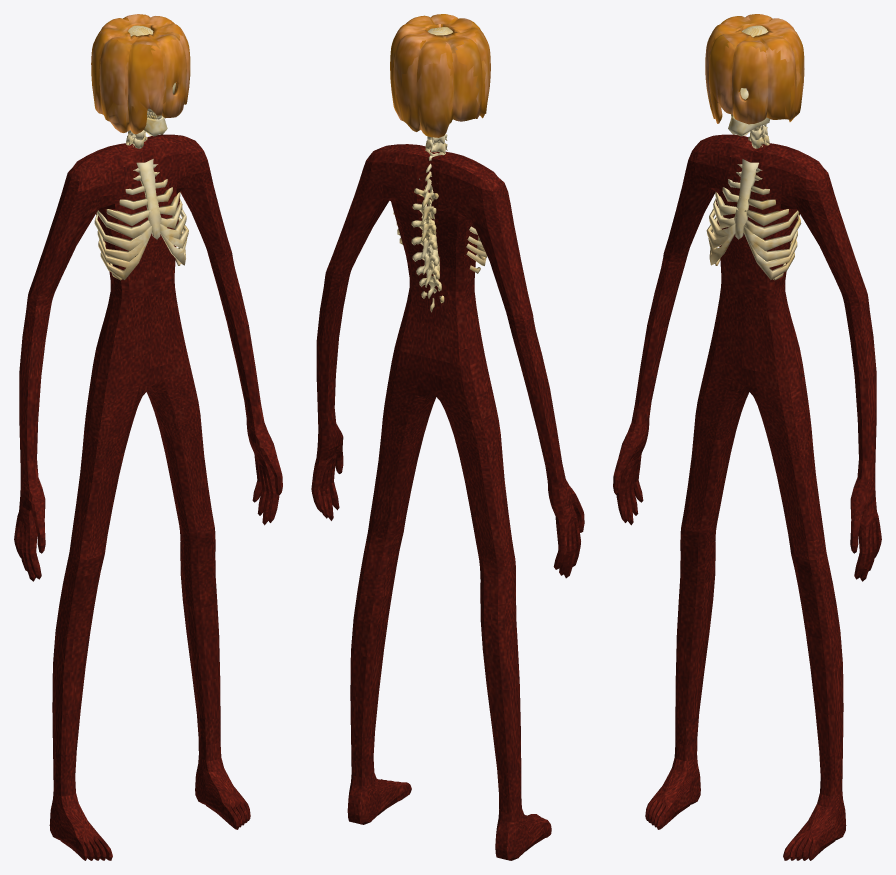
Rendered from Modelo_Homem_Abobora_final.fbx.
3 views of the same model, side by side, from view 1: azimuth 30°, elevation 25°; view 2: azimuth 150°, elevation 25°; view 3: azimuth 330°, elevation 25° (orthographic).
Visible parts, largest first — view 1: Homem_Abobora; view 2: Homem_Abobora; view 3: Homem_Abobora.
Part boxes in pixels (x1,y1,x2,y2): Homem_Abobora: [14, 14, 282, 860]; Homem_Abobora: [311, 14, 584, 860]; Homem_Abobora: [613, 14, 881, 860].
Size of the model in its own units: 255 by 771 by 103.
Materials: 1 (1 with a texture image).
